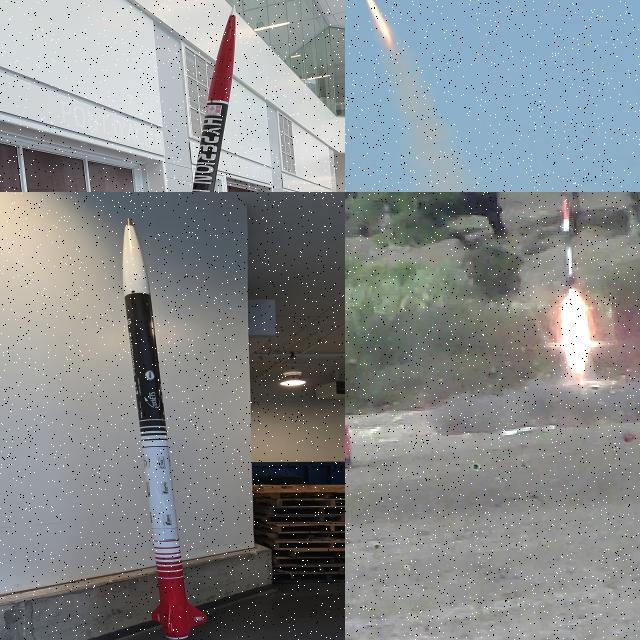Rocket: (122, 217, 207, 639), (192, 4, 235, 192), (561, 198, 576, 288)
